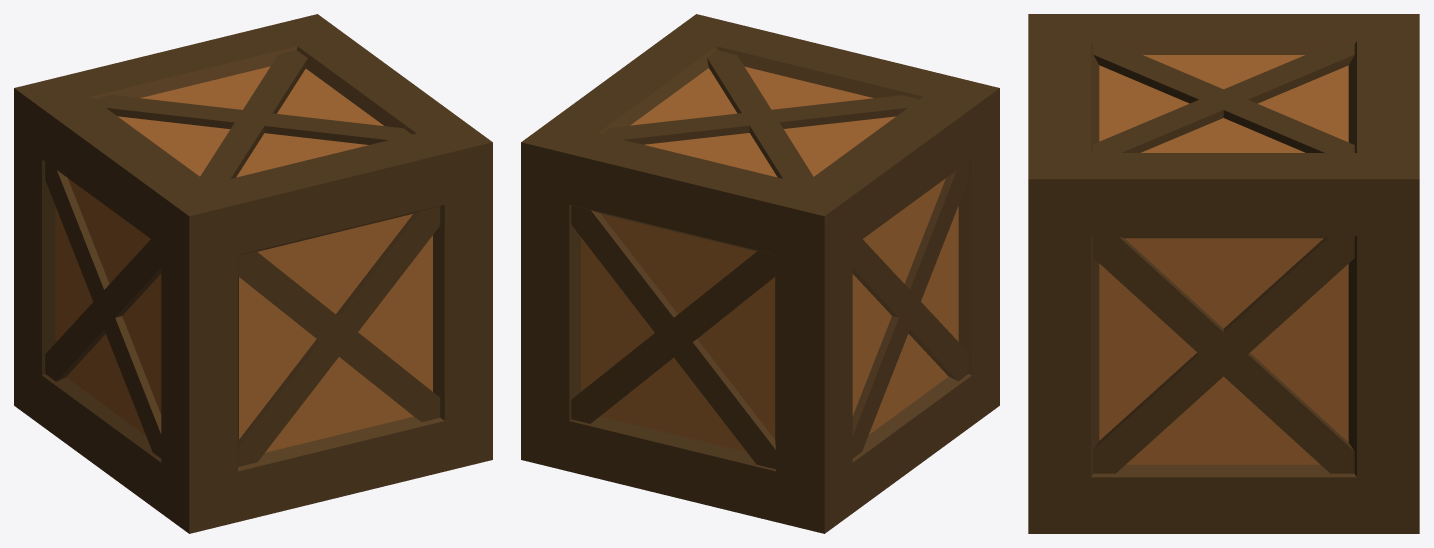
The model's file is krat test.fbx.
3 views of the same model, side by side, from view 1: azimuth 30°, elevation 25°; view 2: azimuth 150°, elevation 25°; view 3: azimuth 270°, elevation 25° (orthographic). The views are drawn at different scales.
Parts seen in each view (by area): view 1: Cube, Cube.001, Cube.003; view 2: Cube, Cube.001, Cube.003; view 3: Cube, Cube.001, Cube.003.
Boxes of the visible parts, x1,y1,x2,y2 form: Cube: [14, 14, 492, 533]; Cube.001: [55, 66, 432, 452]; Cube.003: [45, 50, 440, 466]; Cube: [521, 14, 999, 533]; Cube.001: [581, 66, 958, 452]; Cube.003: [571, 50, 968, 469]; Cube: [1028, 14, 1419, 533]; Cube.001: [1099, 55, 1348, 464]; Cube.003: [1093, 44, 1354, 473].
Size of the model in its own units: 200 by 200 by 200.
